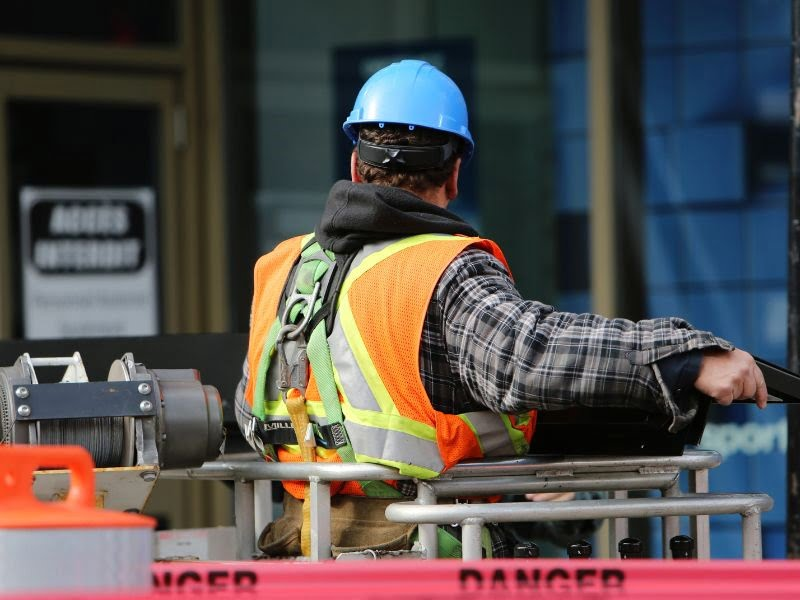hat: (332, 54, 488, 171)
jacket: (229, 207, 543, 509)
